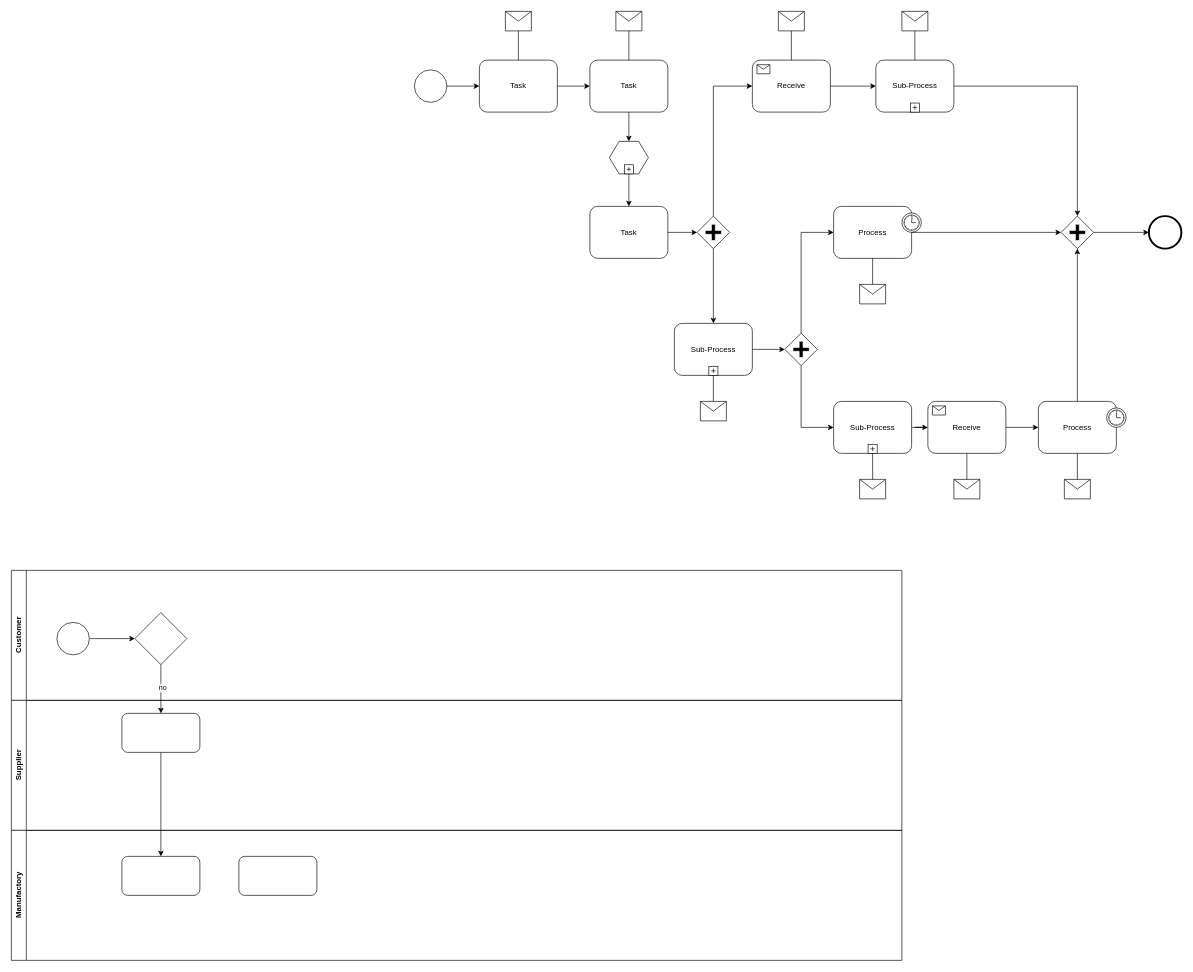
Some shapes in this 1193 by 972 pixel diagram are drawn without their labels. Each missing label, with the centre of its shape:
"check order" goes at [160,638].
"produce orderList" goes at [160,732].
"send" goes at [277,875].
"send deliverySchedule" goes at [160,875].
